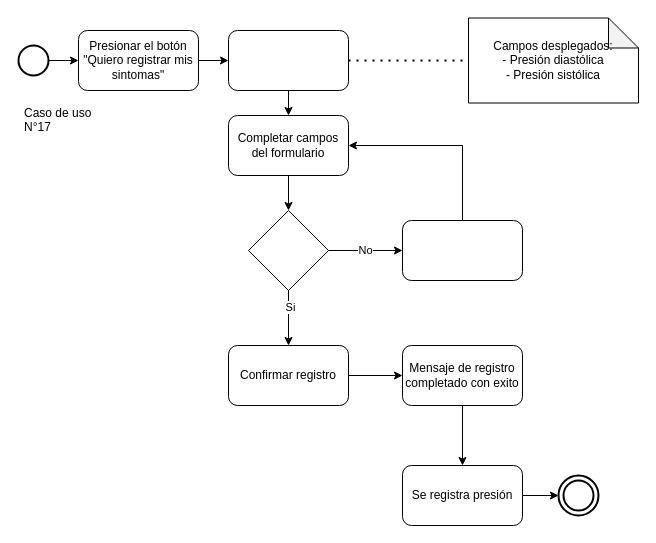
Image size: 656x543. Some labels were removed from this diagram. Here are the shapes that lost their labels. From the top down, the centre of each, then its label:
[288,60]: Se despliega menú con formulario
[288,250]: Validador de formulario
[462,250]: Notificación de "Error al completar el formulario"
